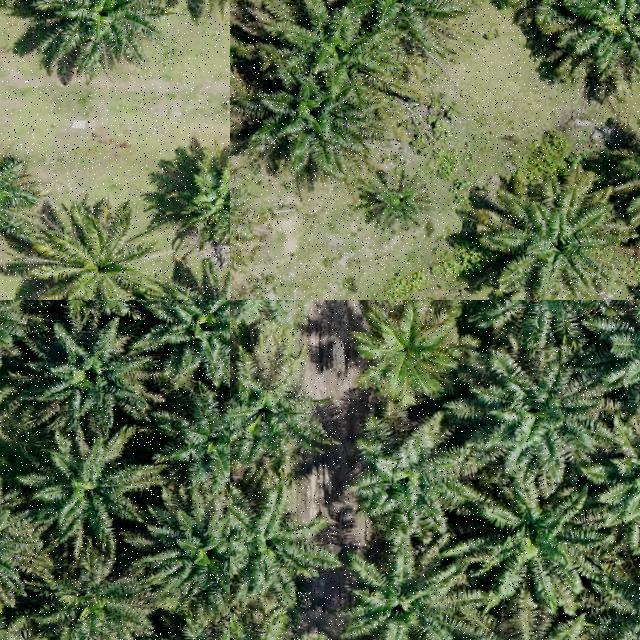Ganoderma: (361, 308, 448, 391)
